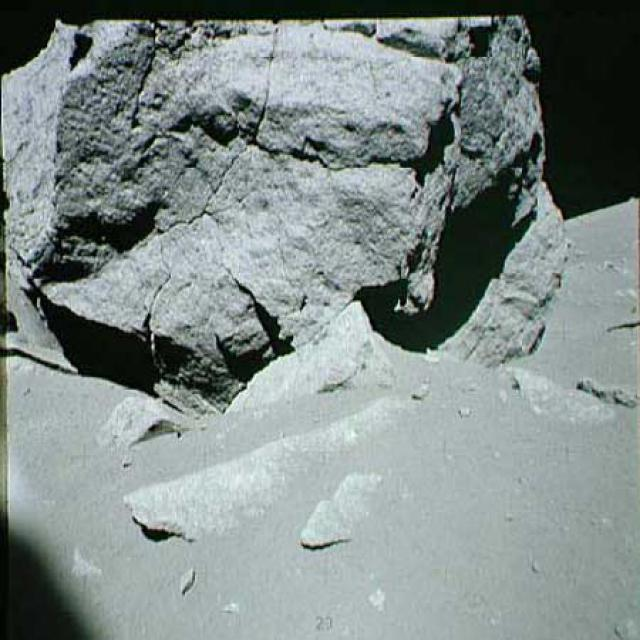rock: (0, 2, 567, 411), (119, 396, 435, 548), (304, 468, 412, 554), (514, 370, 616, 434), (93, 393, 196, 453), (574, 372, 638, 408)
